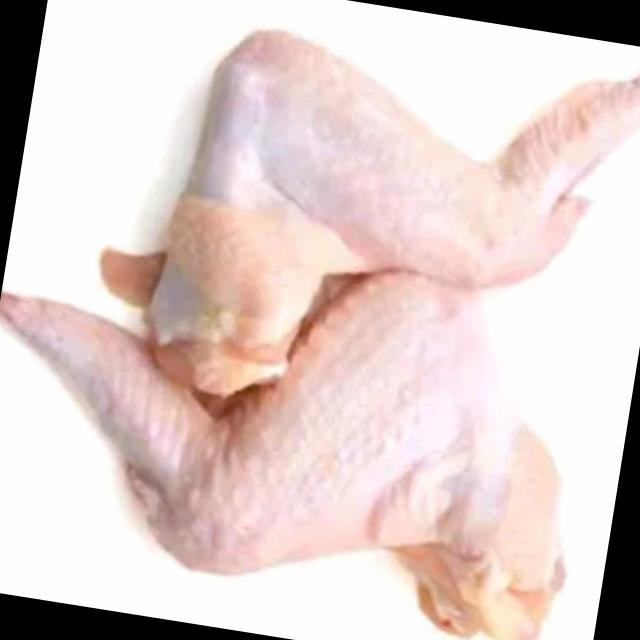Ayam: (0, 217, 611, 640), (142, 18, 640, 446)
